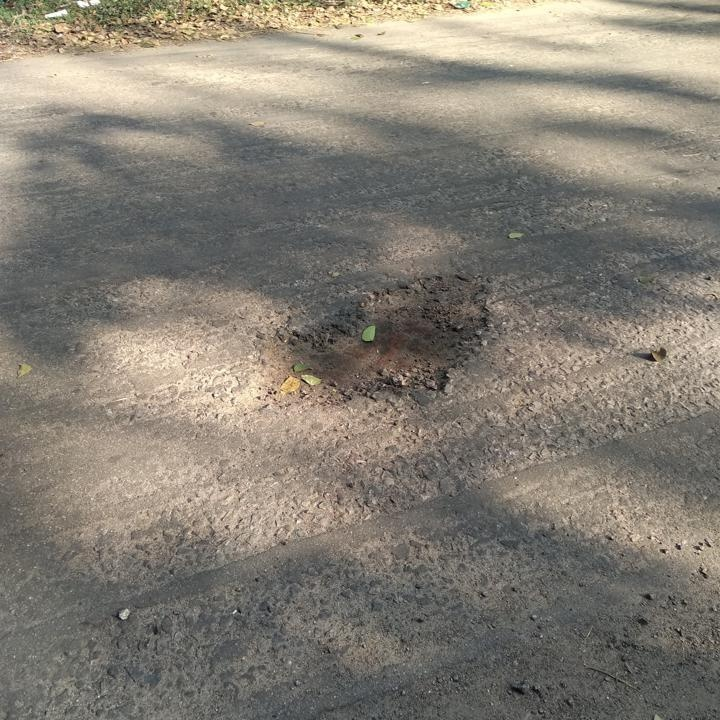pothole: (250, 268, 500, 413)
